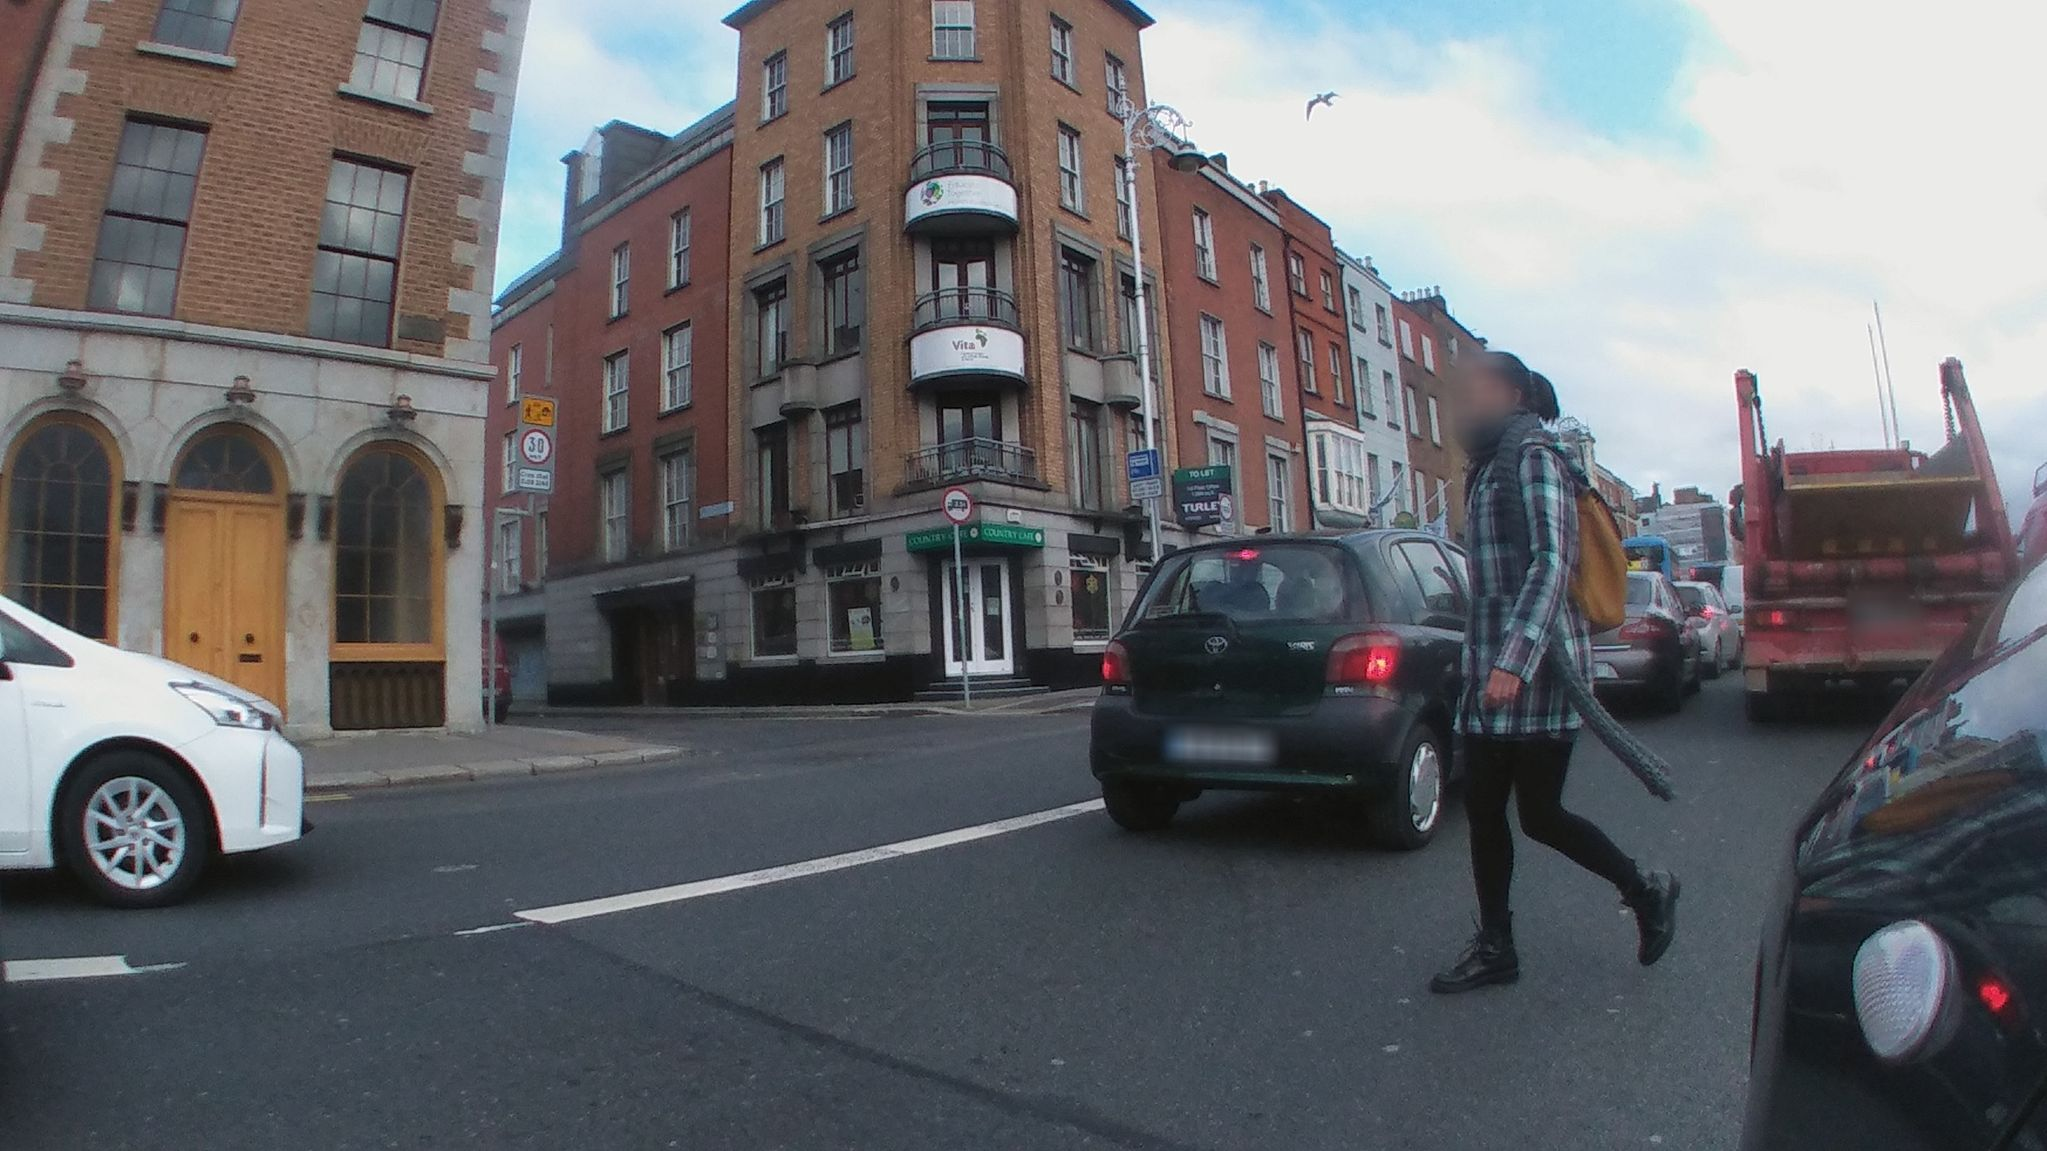property sign: (1161, 448, 1261, 534)
